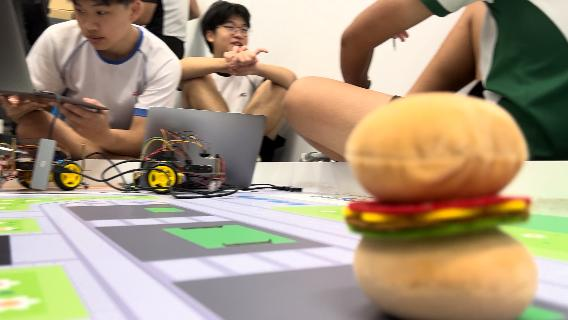burger: (340, 90, 540, 316)
